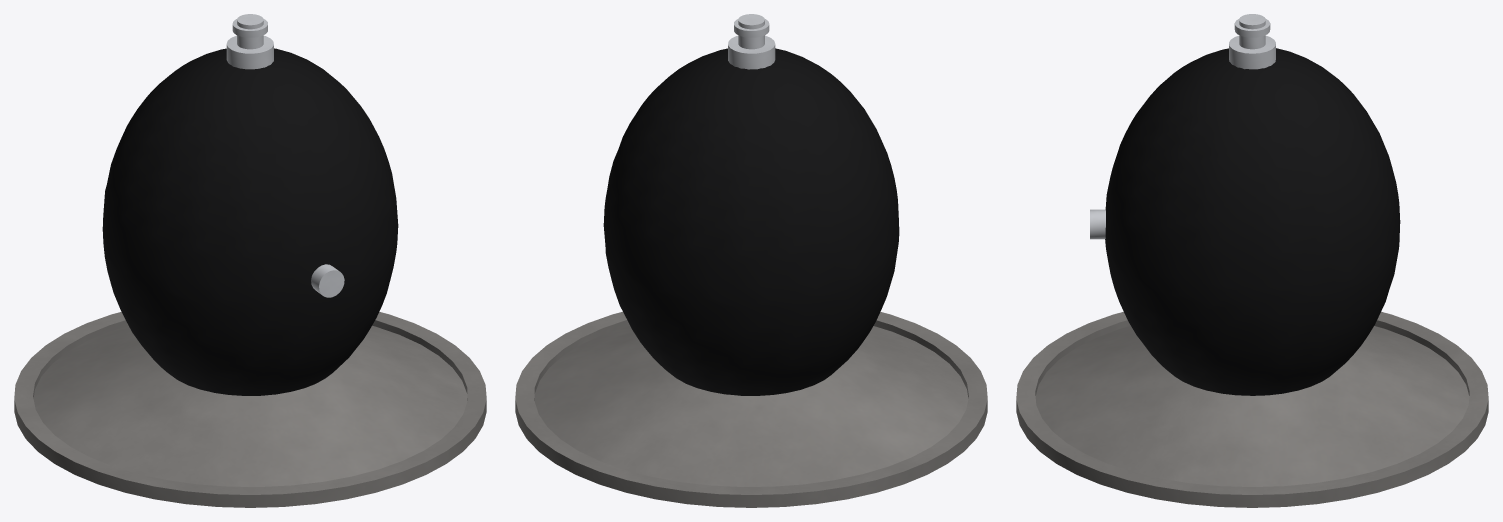
Rendered from tank04_xenon_copv_m.glb.
The picture shows the model from 3 angles, left to right: view 1: azimuth 30°, elevation 25°; view 2: azimuth 150°, elevation 25°; view 3: azimuth 270°, elevation 25°; orthographic projection.
Visible parts, largest first — view 1: copv, support_skirt, polar_bosses, side_port; view 2: copv, support_skirt, polar_bosses; view 3: copv, support_skirt, polar_bosses.
Part boxes in pixels (x1,y1,x2,y2): copv: (102,48,398,395); support_skirt: (14,312,486,507); polar_bosses: (226,14,273,69); side_port: (311,264,344,297); copv: (603,48,899,395); support_skirt: (515,311,987,507); polar_bosses: (728,14,775,69); copv: (1105,48,1400,395); support_skirt: (1016,311,1488,507); polar_bosses: (1229,14,1275,69).
Size of the model in its own units: 2.5 by 2.27 by 2.5.
3 materials, 2 textured.
